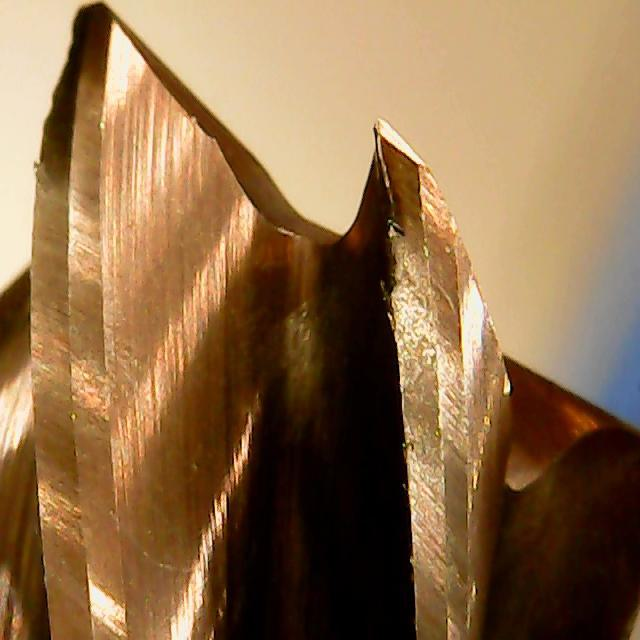Tool-wear-class-1: (335, 109, 495, 394)
